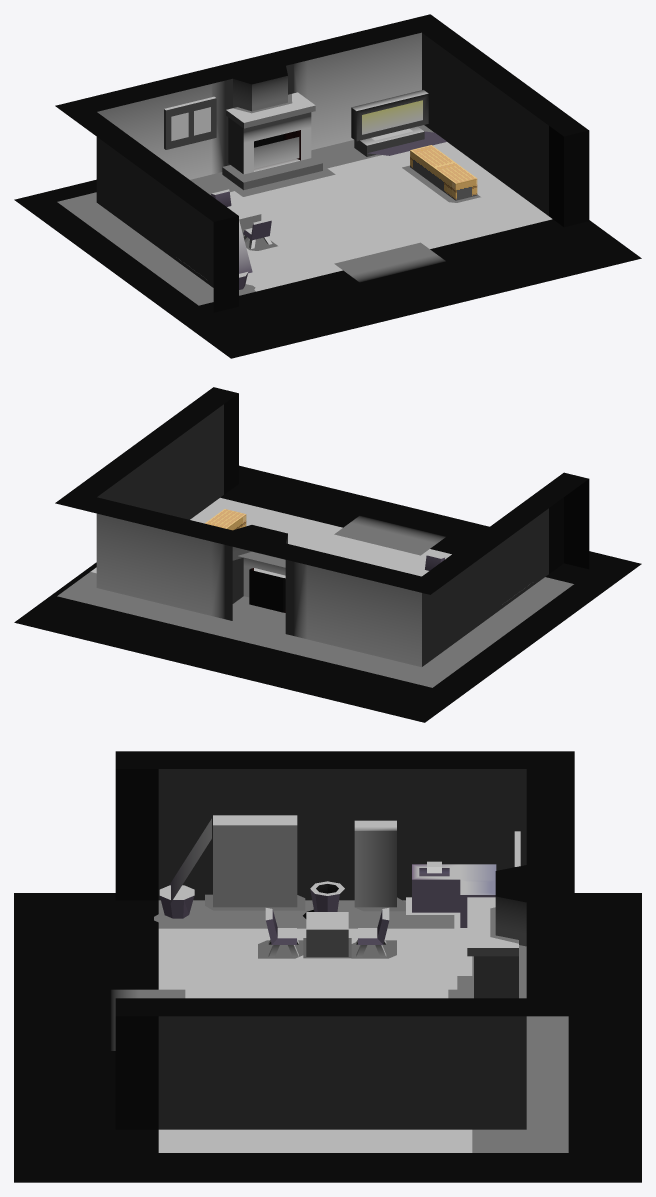
The model's file is floccesy_house_5.obj.
3 views of the same model, one above another, from view 1: azimuth 30°, elevation 25°; view 2: azimuth 150°, elevation 25°; view 3: azimuth 270°, elevation 25° (orthographic). The views are drawn at different scales.
Size of the model in its own units: 296 by 73.35 by 271.
